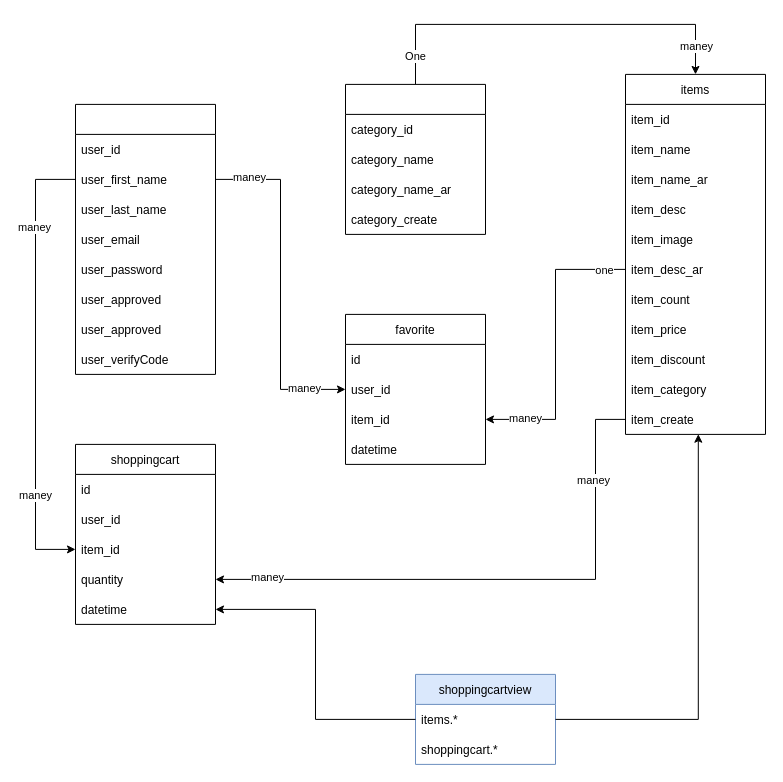
Some shapes in this 783 by 782 pixel diagram are drawn without their labels. The box of each missing label's shape, as (x1, y1, x2, y2) in pixels:
categorys: (344, 83, 486, 234)
users: (74, 103, 216, 374)
